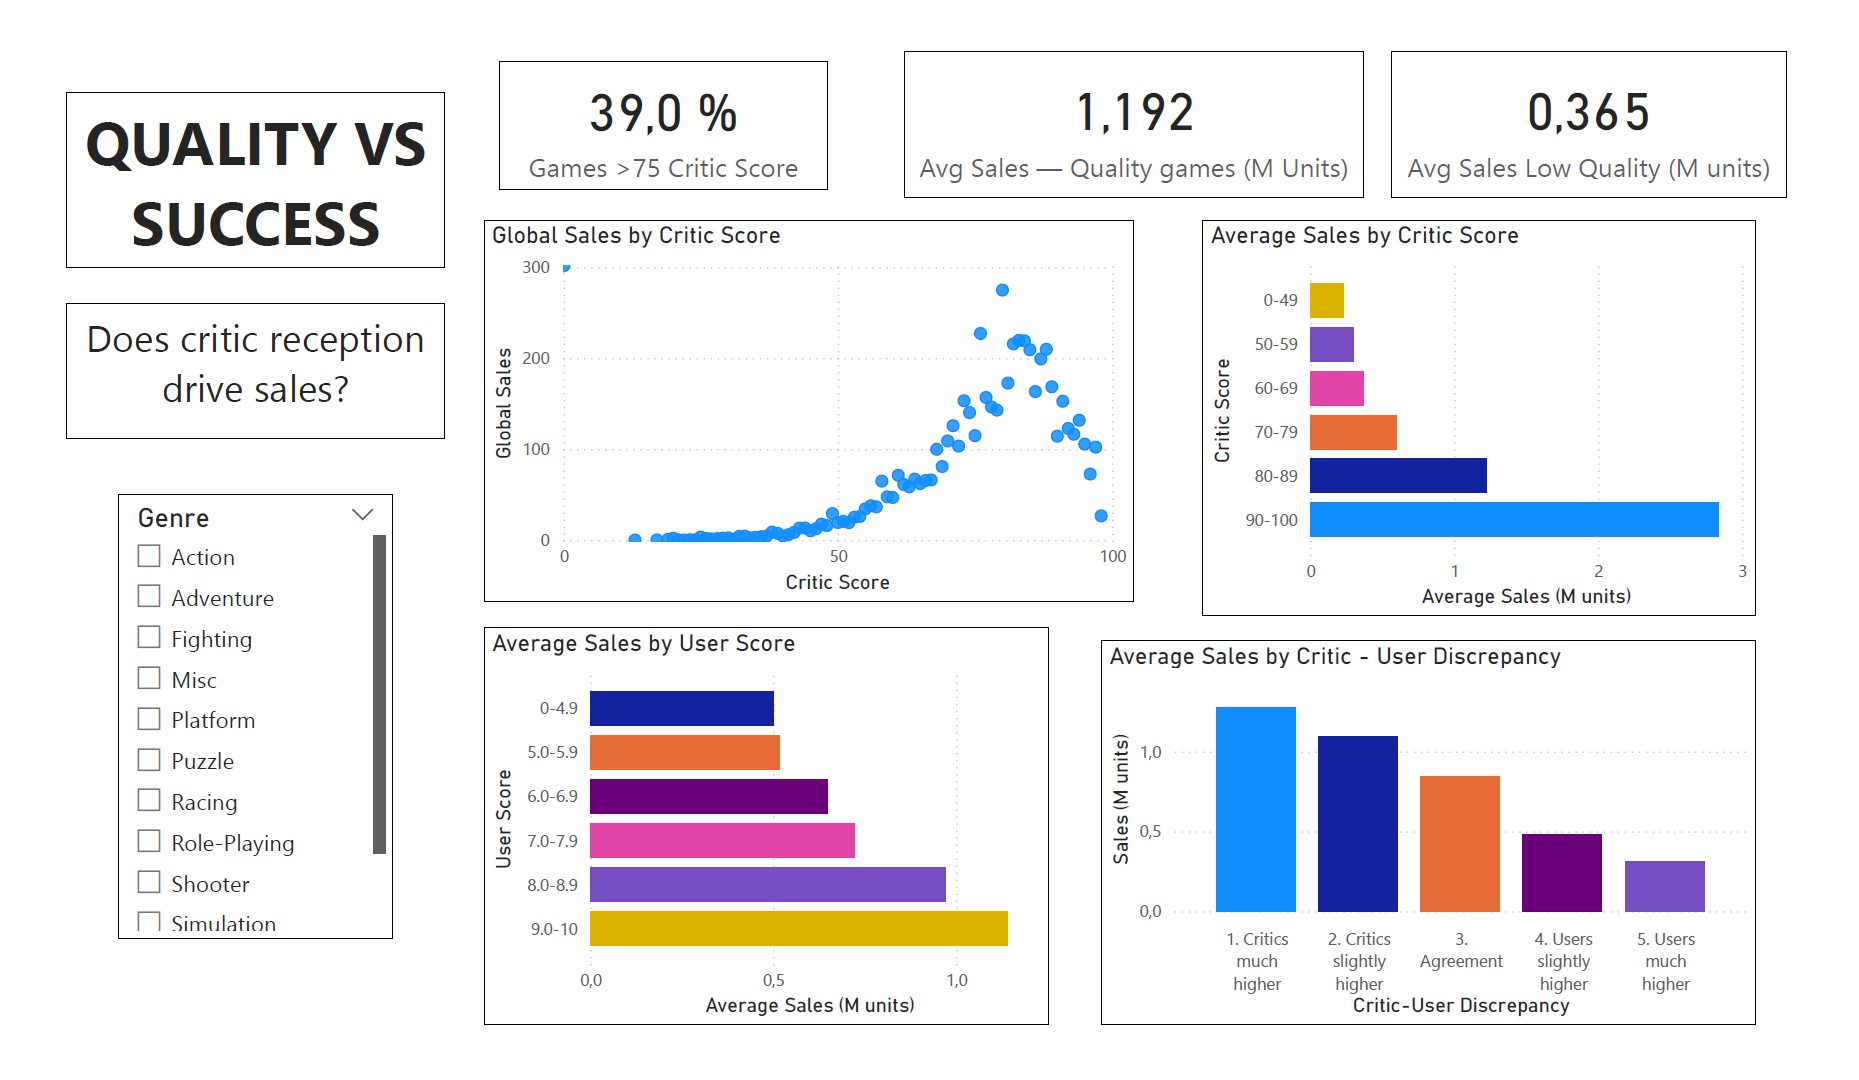

This screenshot's page, from the dashboard's own definition file:
{"tool":"powerbi","page":{"name":"Quality and Success","canvas":[1280,720],"ordinal":1},"visuals":[{"type":"textbox","box":[25,41,270,126],"z":0},{"type":"textbox","box":[25,191,270,97],"z":1000},{"type":"card","fields":{"Values":["videogames_final.% High Quality Games"]},"box":[333,19,234,92],"z":2000},{"type":"card","fields":{"Values":["videogames_final.Avg Sales High Quality"]},"box":[621,12,327,105],"z":3000},{"type":"card","fields":{"Values":["videogames_final.Avg Sales Low Quality"]},"box":[967,12,282,105],"z":4000},{"type":"scatterChart","fields":{"X":["videogames_final.Critic_Score"],"Y":["Sum(videogames_final.Global_Sales)"]},"box":[322,132,463,272],"z":5000},{"type":"slicer","fields":{"Values":["videogames_final.Genre"]},"box":[62,327,196,317],"z":6000},{"type":"barChart","title":"Average Sales by Critic Score","fields":{"Y":["Avg(videogames_final.Global_Sales)"],"Category":["videogames_final.Critic_Score_Range"],"Series":["videogames_final.Critic_Score_Range"]},"box":[833,132,394,282],"z":7000},{"type":"barChart","title":"Average Sales by User Score","fields":{"Y":["Avg(videogames_final.Global_Sales)"],"Category":["videogames_final.User_Score_Range"],"Series":["videogames_final.User_Score_Range"]},"box":[322,422,402,283],"z":8000},{"type":"columnChart","title":"Average Sales by Critic - User Discrepancy","fields":{"Y":["Avg(videogames_final.Global_Sales)"],"Category":["videogames_final.Critic_User_Discrepancy"],"Series":["videogames_final.Critic_User_Discrepancy"]},"box":[761,431,466,274],"z":9000}]}

Visuals, with their boxes on the page's 1280x720 design canvas (x1, y1, x2, y2). These are canvas units, not pixel positions in the 1859x1080 screenshot, which may show the page scaled, cropped or inside an application window:
textbox: bbox=(25, 41, 295, 167)
textbox: bbox=(25, 191, 295, 288)
card - videogames_final.% High Quality Games: bbox=(333, 19, 567, 111)
card - videogames_final.Avg Sales High Quality: bbox=(621, 12, 948, 117)
card - videogames_final.Avg Sales Low Quality: bbox=(967, 12, 1249, 117)
scatterChart - videogames_final.Critic_Score x Sum(videogames_final.Global_Sales): bbox=(322, 132, 785, 404)
slicer - videogames_final.Genre: bbox=(62, 327, 258, 644)
"Average Sales by Critic Score" barChart: bbox=(833, 132, 1227, 414)
"Average Sales by User Score" barChart: bbox=(322, 422, 724, 705)
"Average Sales by Critic - User Discrepancy" columnChart: bbox=(761, 431, 1227, 705)
